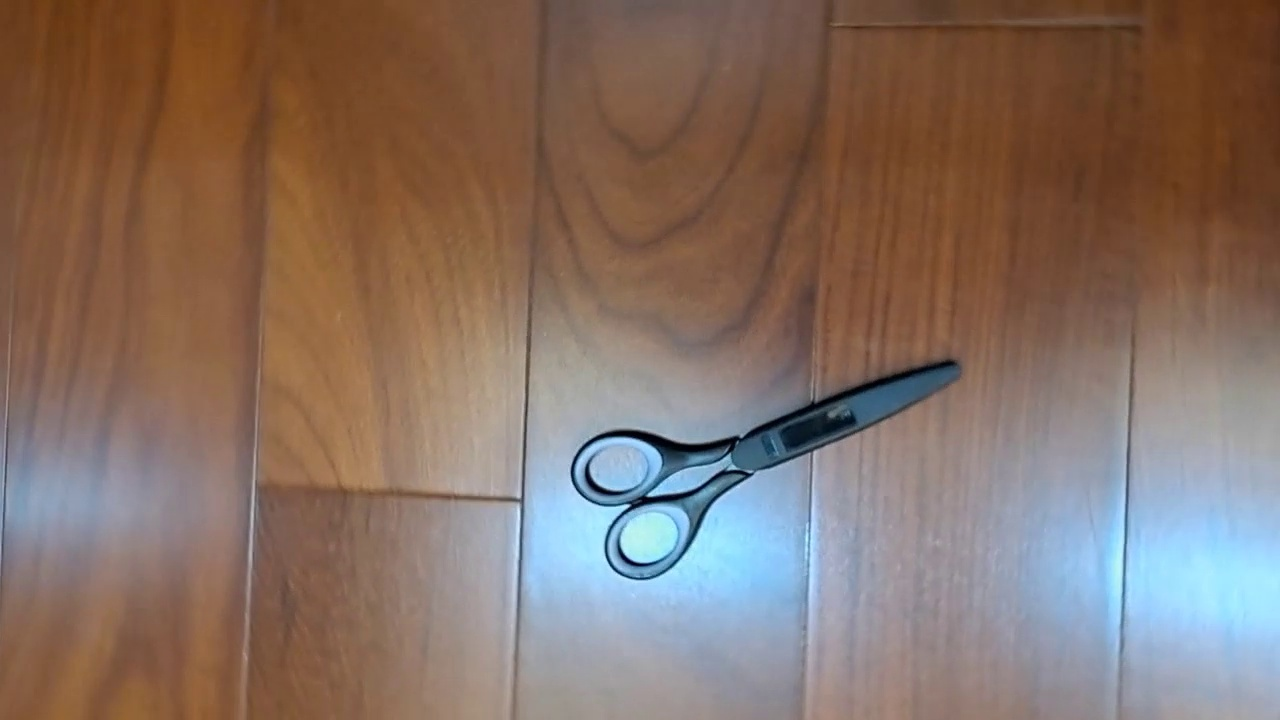scissors: (570, 357, 964, 581)
